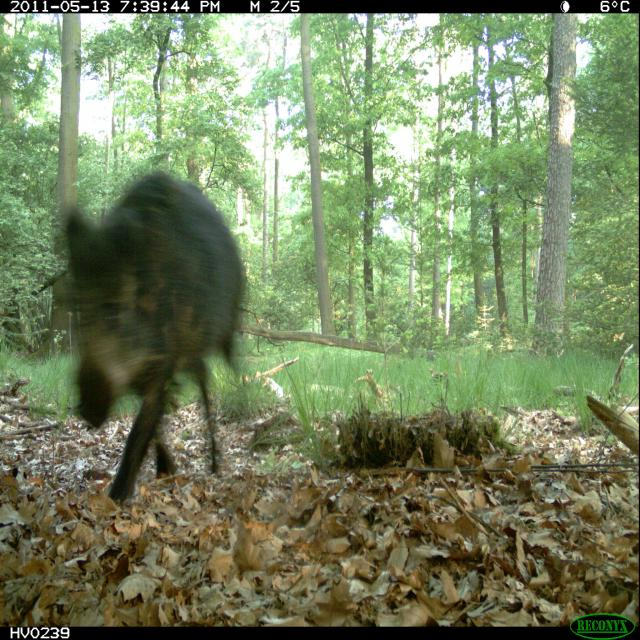boar: (18, 134, 293, 538)
